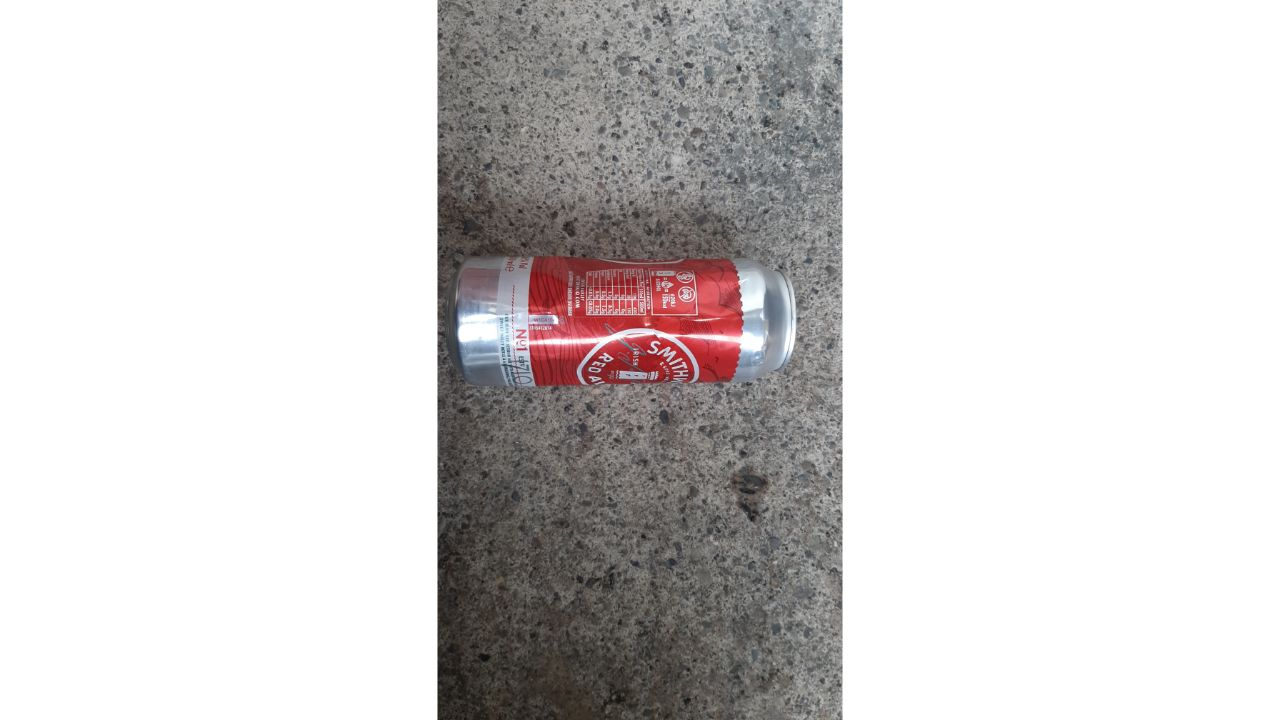Can: (441, 227, 806, 410)
